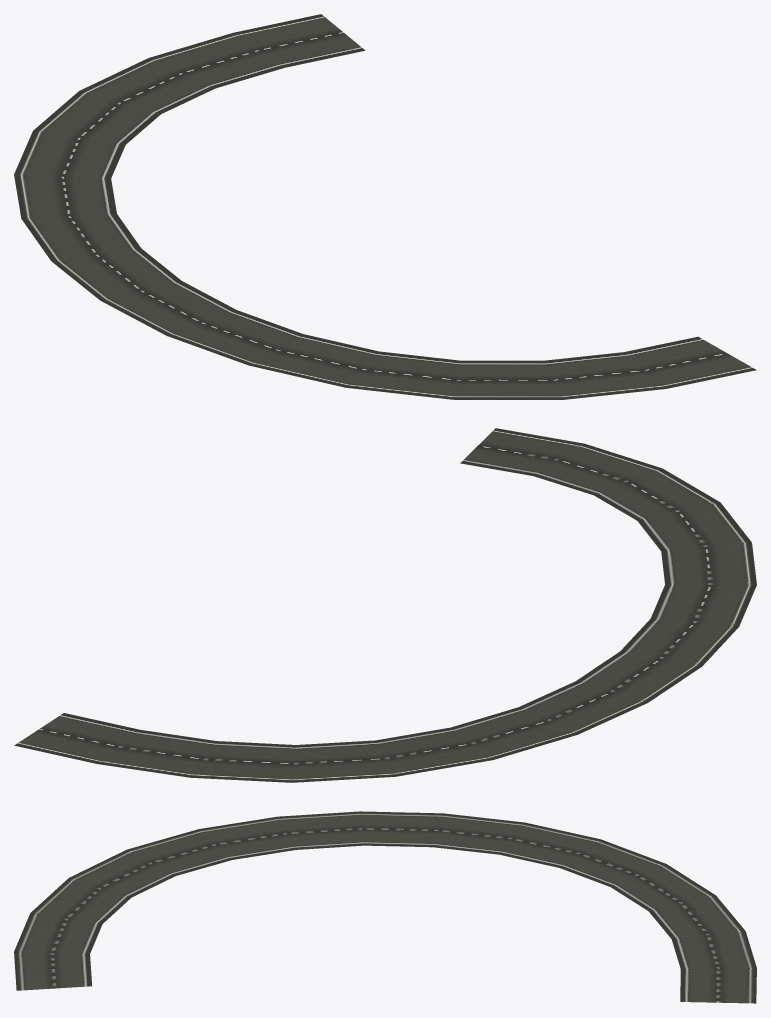
File: road.fbx
3 views of the same model, one above another, from view 1: azimuth 30°, elevation 25°; view 2: azimuth 150°, elevation 25°; view 3: azimuth 270°, elevation 25° (orthographic). The views are drawn at different scales.
Visible parts, largest first — view 1: Plane; view 2: Plane; view 3: Plane.
Boxes of the visible parts, <box> form: Plane: <box>14,14,756,399</box>; Plane: <box>14,428,756,782</box>; Plane: <box>14,811,756,1003</box>.
Bounding box in the file's own units: 1125 × 35.45 × 1950.
Materials: 1 (1 with a texture image).
